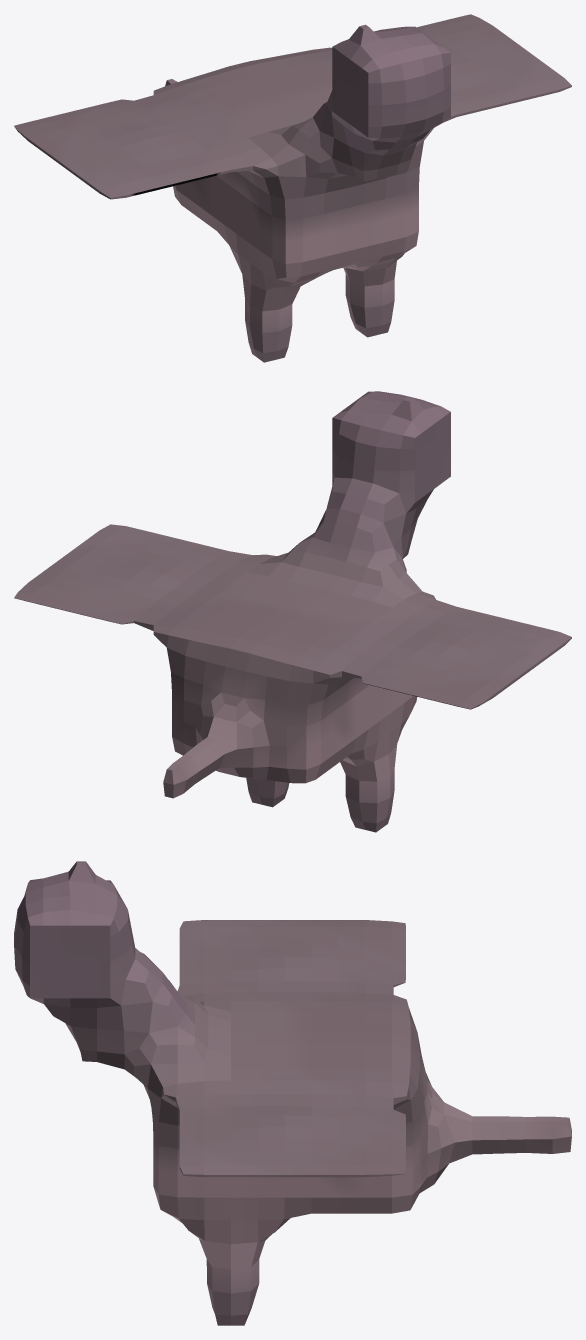
The model's file is wyvern.glb.
The picture shows the model from 3 angles, top to bottom: view 1: azimuth 30°, elevation 25°; view 2: azimuth 150°, elevation 25°; view 3: azimuth 270°, elevation 25°; orthographic projection. The views are drawn at different scales.
Parts seen in each view (by area): view 1: geometry_0; view 2: geometry_0; view 3: geometry_0.
Part boxes in pixels (x1,y1,x2,y2): geometry_0: (14, 14, 571, 362); geometry_0: (14, 391, 571, 832); geometry_0: (14, 861, 571, 1325).
Bounding box in the file's own units: 1.25 × 0.9519 × 1.16.
Materials: 1 (1 with a texture image).
